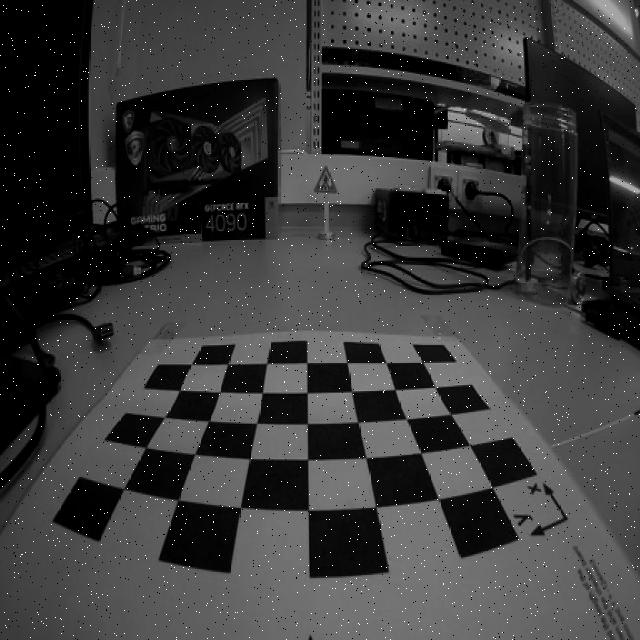Rambu Penyebrangan: (313, 165, 337, 192)
